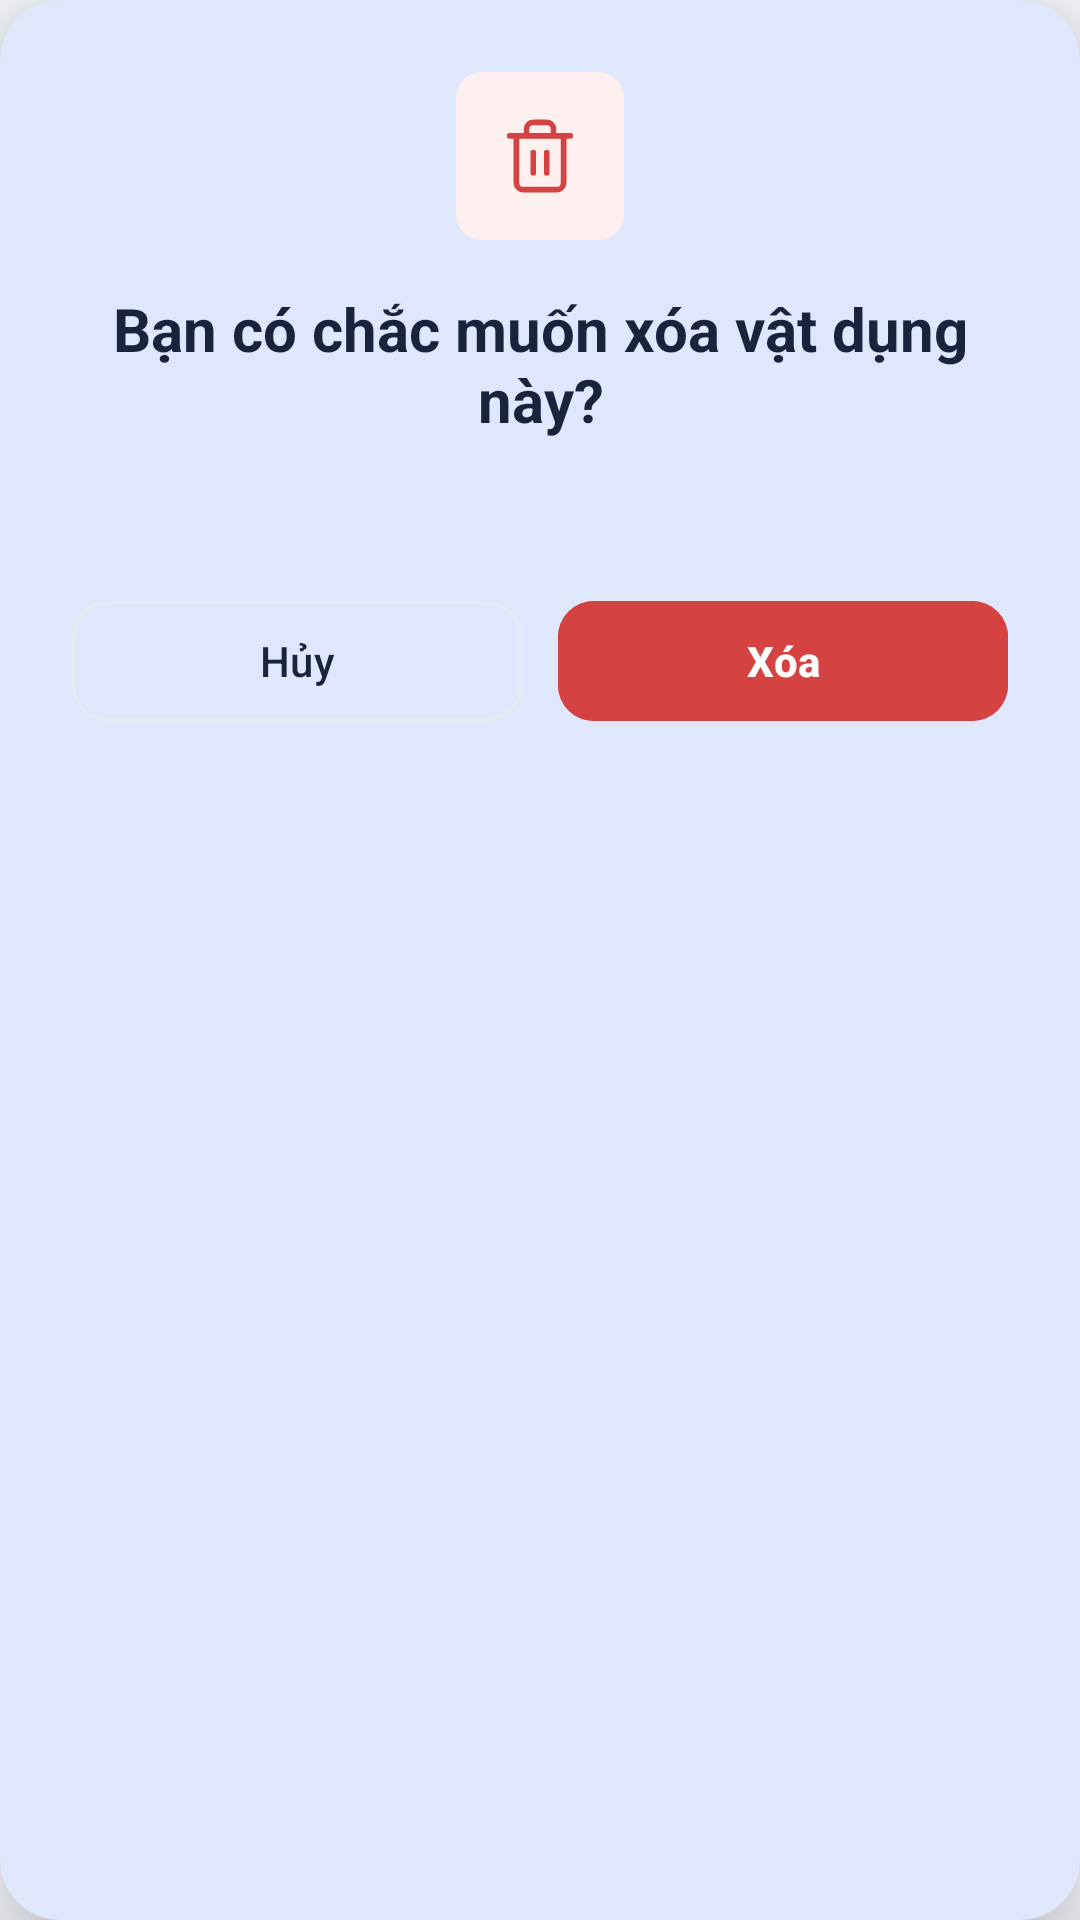

Icon bounding boxes for this 1080×1920 phone screenshot, format {"x1": x1, "y1": y1, "x2": x2, "y2": y2}:
alert delete: {"x1": 456, "y1": 72, "x2": 624, "y2": 240}
